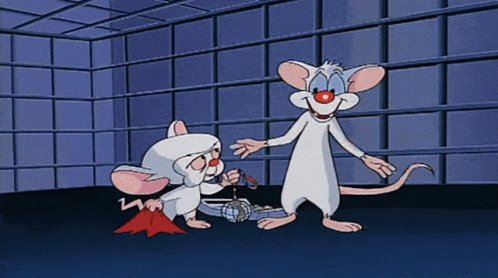cerebro: (108, 108, 227, 249)
pink: (229, 54, 436, 244)
